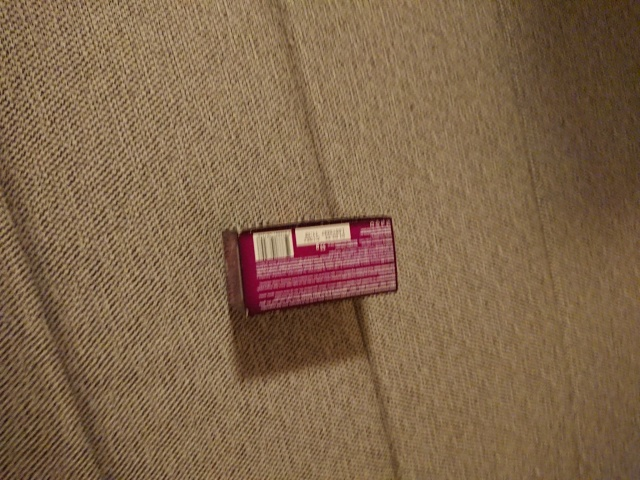Franck Black Currant Tea 60g: (219, 212, 401, 320)
